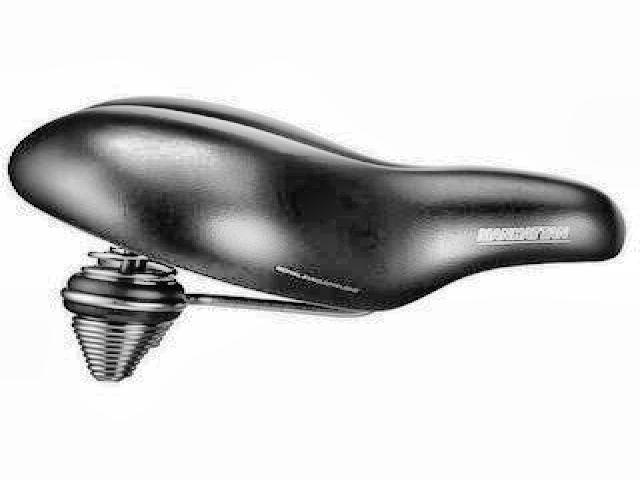saddle: (7, 91, 628, 396)
